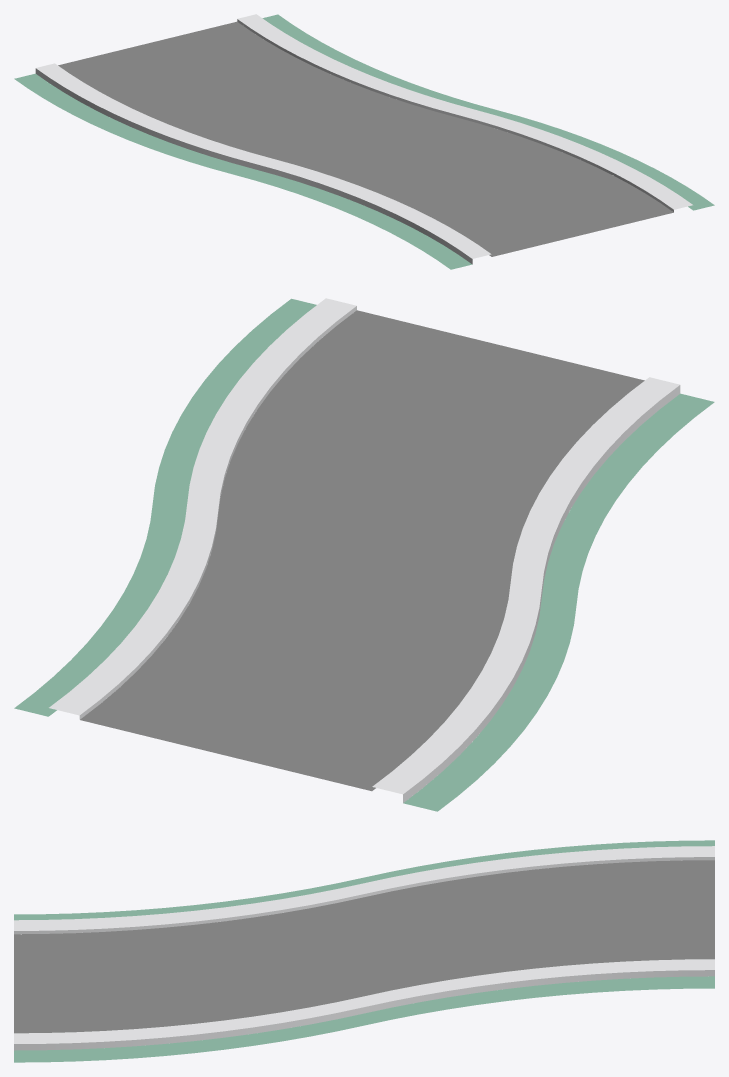
File: roadCurved.glb
3 views of the same model, one above another, from view 1: azimuth 30°, elevation 25°; view 2: azimuth 150°, elevation 25°; view 3: azimuth 270°, elevation 25° (orthographic). The views are drawn at different scales.
Parts seen in each view (by area): view 1: roadCurved(Clone); view 2: roadCurved(Clone); view 3: roadCurved(Clone).
Boxes of the visible parts, x1,y1,x2,y2 form: roadCurved(Clone): (14,14,714,269); roadCurved(Clone): (14,298,714,811); roadCurved(Clone): (14,840,714,1062).
Size of the model in its own units: 1.5 by 0.02 by 2.
